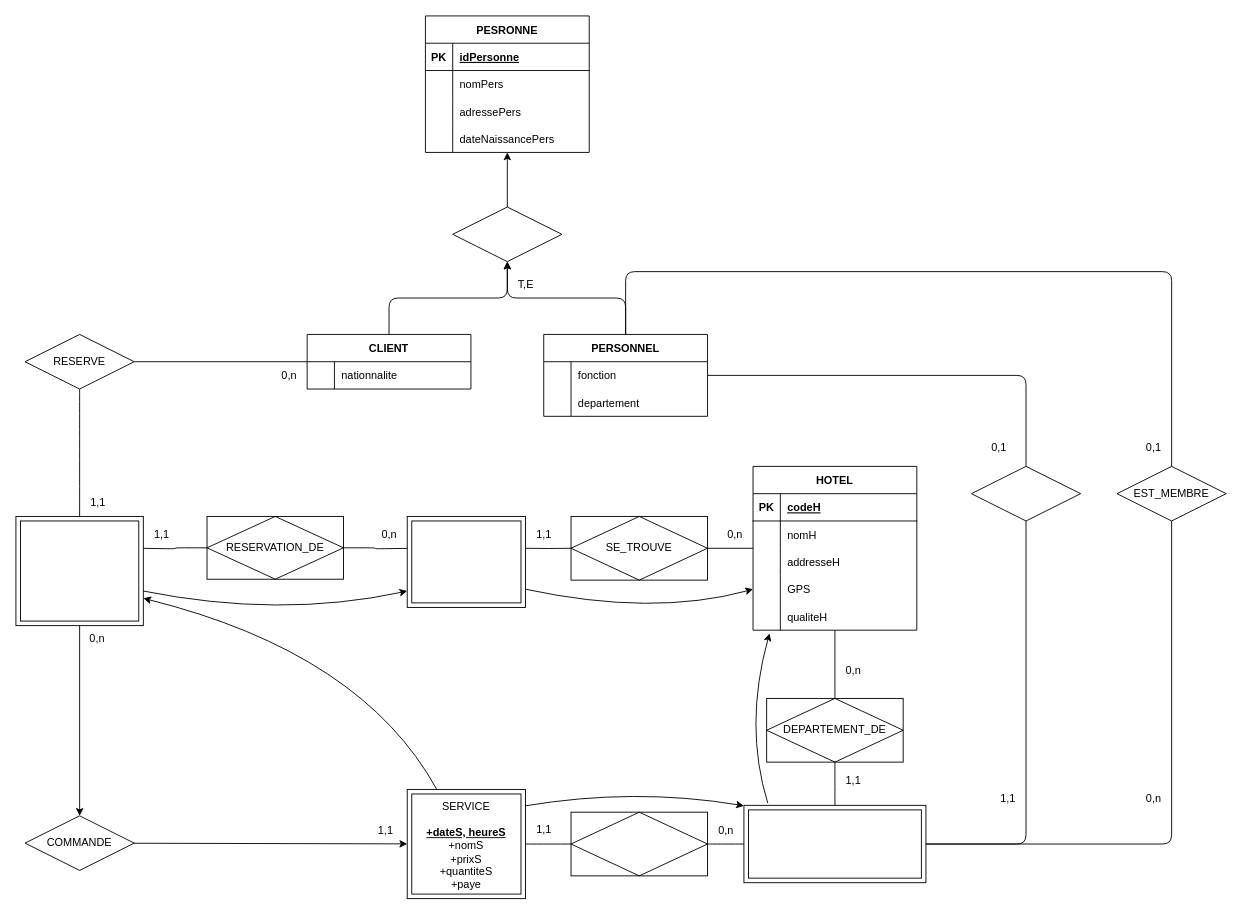
Image size: 1242x915. Some labels were removed from this diagram. The shapes that lost their labels are listed below. From the top down, each one's centre as x and y in pixels, then its label:
At (507,234): "IS_A".
At (1026,493): "DIRIGE".
At (79,571): "RESERVATION +dateDebut +prixRes +dateFin +nbAdultes +nbEnfants".
At (466,561): "CHAMBRE +numC +capacite +superficie".
At (639,843): "SERVICE_DE".
At (834,843): "DEPARTEMENT +nomDep +telDep".
